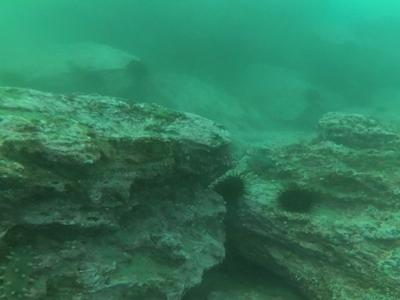urchin: (276, 189, 313, 215), (214, 174, 247, 203)
